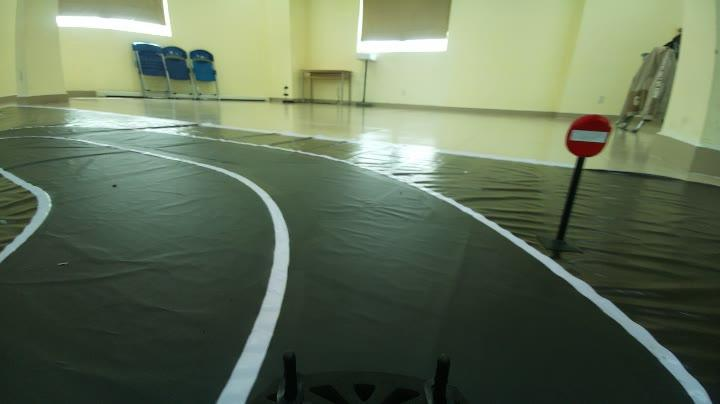no_entry: (554, 106, 619, 166)
